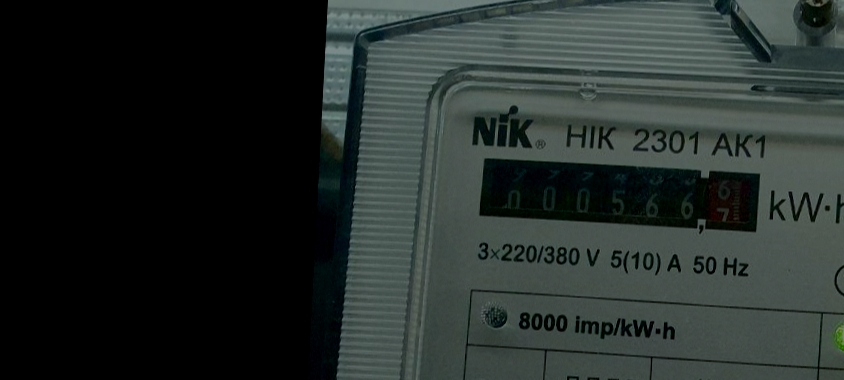0: (573, 185, 592, 215), (539, 182, 557, 212), (503, 185, 523, 209)
5: (608, 186, 627, 216)
6: (677, 188, 697, 220), (641, 189, 661, 218), (716, 177, 733, 203)
7: (714, 205, 730, 224)
9: (508, 163, 527, 184)
screen: (469, 149, 766, 241)
